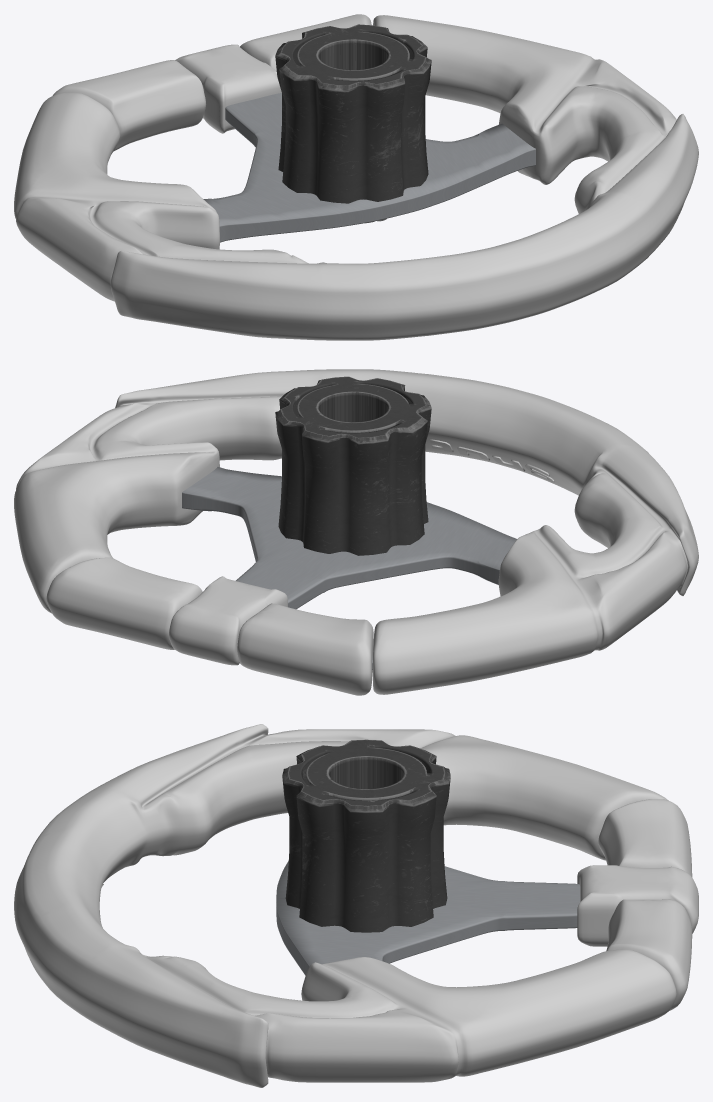
3 views of the same model, one above another, from view 1: azimuth 30°, elevation 25°; view 2: azimuth 150°, elevation 25°; view 3: azimuth 270°, elevation 25° (orthographic). The views are drawn at different scales.
Visible parts, largest first — view 1: shutt S3RR; view 2: shutt S3RR; view 3: shutt S3RR.
Part boxes in pixels (bbox=[...]): shutt S3RR: bbox=[14, 14, 698, 340]; shutt S3RR: bbox=[14, 369, 698, 695]; shutt S3RR: bbox=[14, 724, 698, 1087].
Size of the model in its own units: 5.15 by 1.33 by 4.79.
